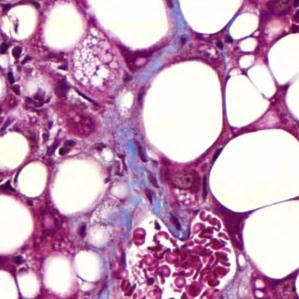steatosis: (140, 60, 224, 164)
